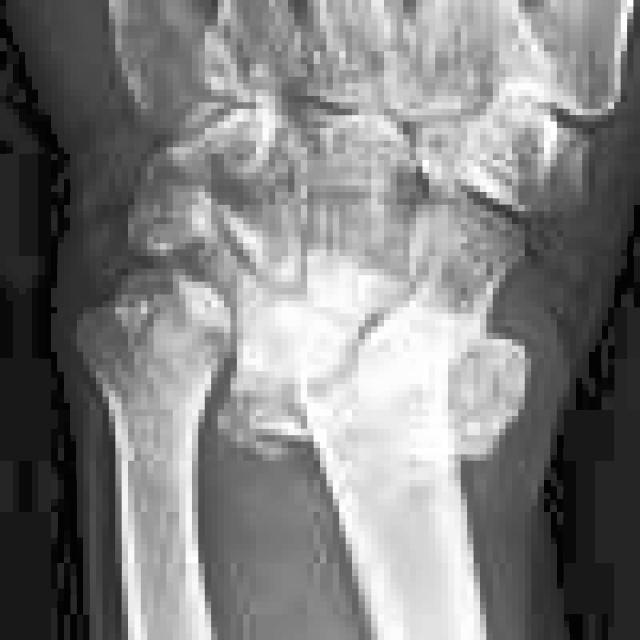Impact Fracture: (288, 282, 410, 393)
